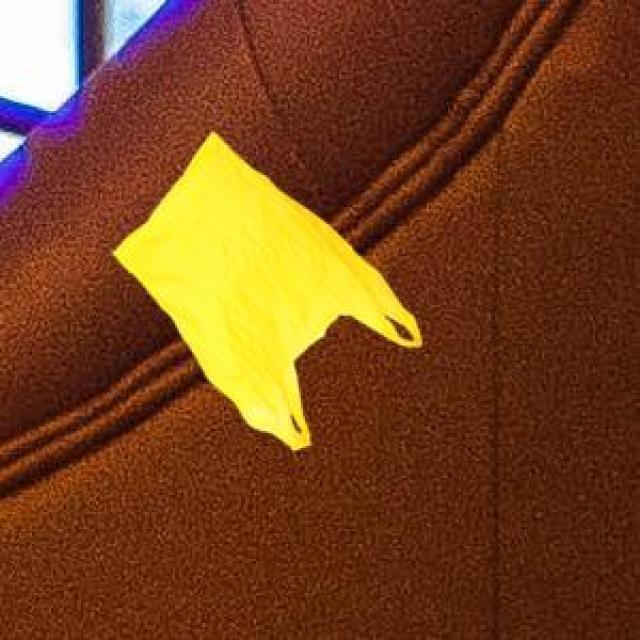waste: (114, 132, 421, 449)
